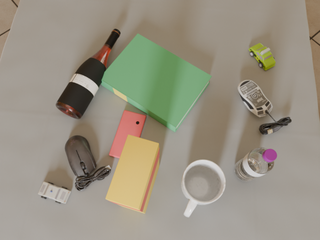book: (101, 34, 212, 132)
bottle: (56, 29, 120, 119), (234, 147, 277, 182)
box: (106, 134, 159, 213)
cup: (181, 160, 225, 217)
mouse: (65, 135, 111, 191), (238, 80, 272, 117)
phone: (109, 110, 146, 158)
toy_car: (38, 182, 71, 204), (249, 43, 275, 70)
